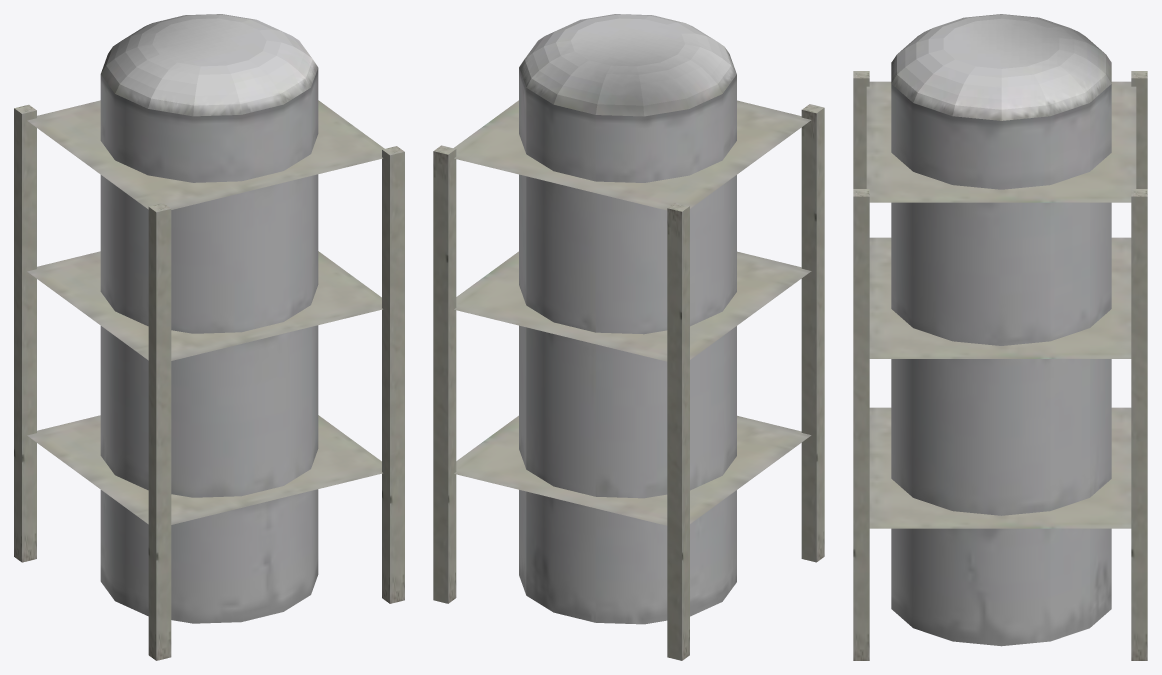
Rendered from industrial_silos_03.glb.
The picture shows the model from 3 angles, left to right: view 1: azimuth 30°, elevation 25°; view 2: azimuth 150°, elevation 25°; view 3: azimuth 270°, elevation 25°; orthographic projection. The views are drawn at different scales.
Visible parts, largest first — view 1: ind:silos_03; view 2: ind:silos_03; view 3: ind:silos_03.
Boxes of the visible parts, <box> form: ind:silos_03: <box>14,14,404,660</box>; ind:silos_03: <box>433,14,824,660</box>; ind:silos_03: <box>853,14,1147,660</box>.
Bounding box in the file's own units: 4.32 × 8.9 × 4.28.
Materials: 1 (1 with a texture image).
